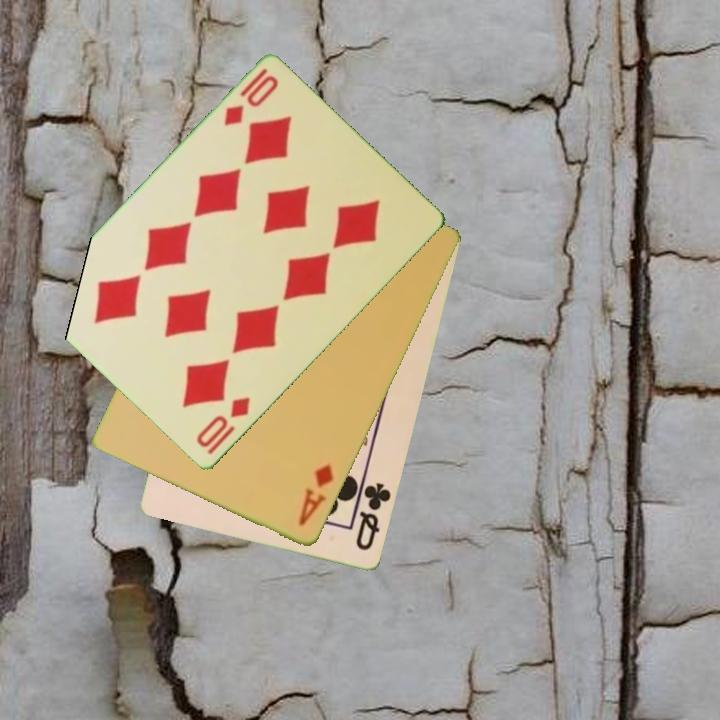10d: (192, 394, 254, 459), (220, 65, 282, 130)
Ad: (295, 461, 337, 530)
Qc: (352, 479, 395, 554)
